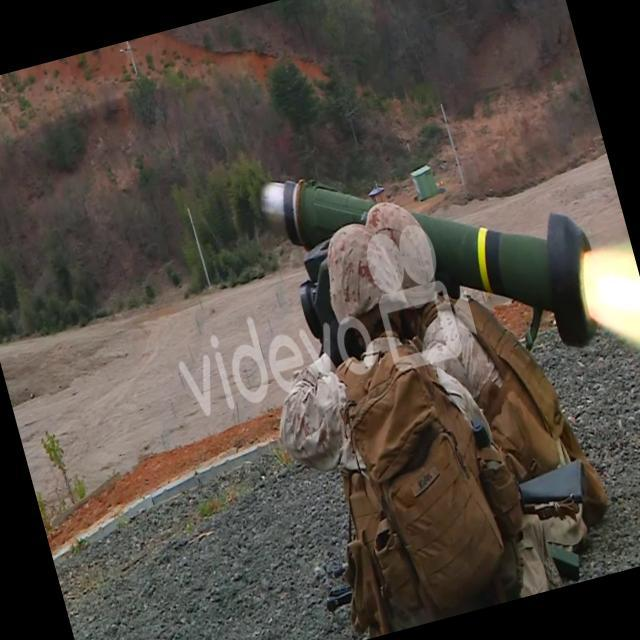rocket: (262, 109, 606, 407)
